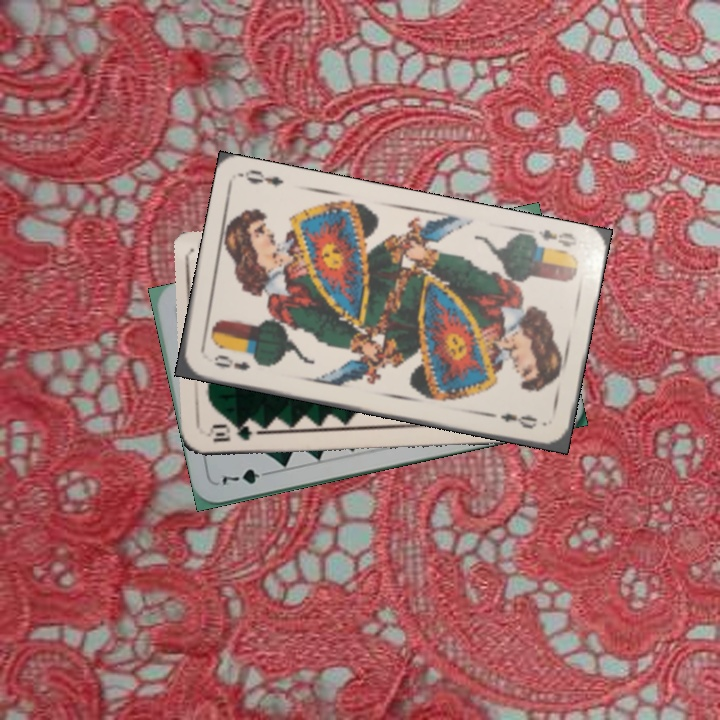EO: (534, 225, 580, 250), (210, 350, 253, 373)
G10: (204, 420, 255, 445)
G7: (217, 464, 274, 488)
